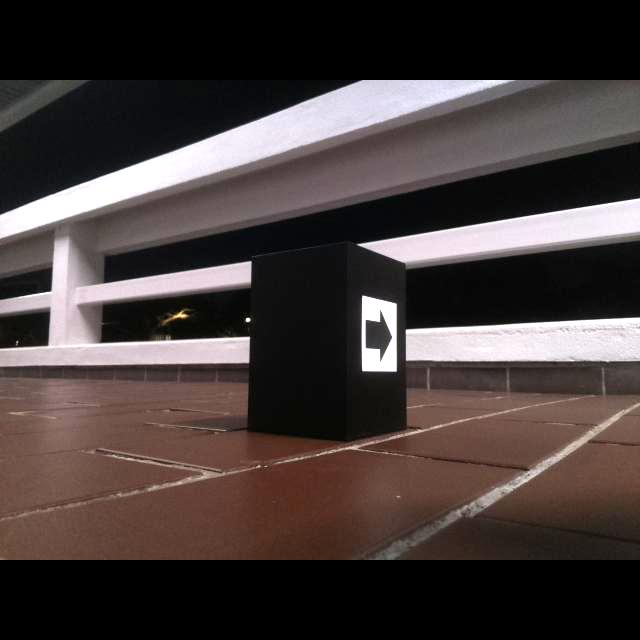RIGHT: (365, 310, 391, 362)
